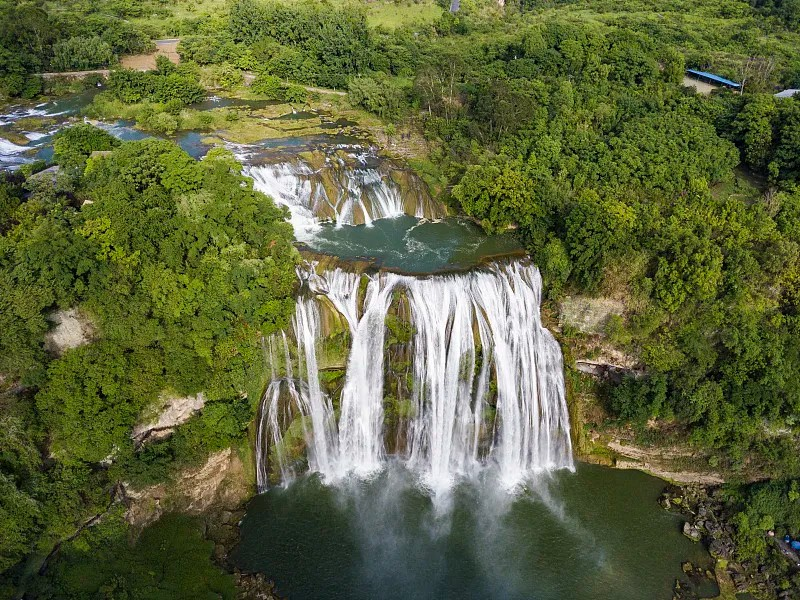Huangguoshu: (258, 167, 575, 483)
